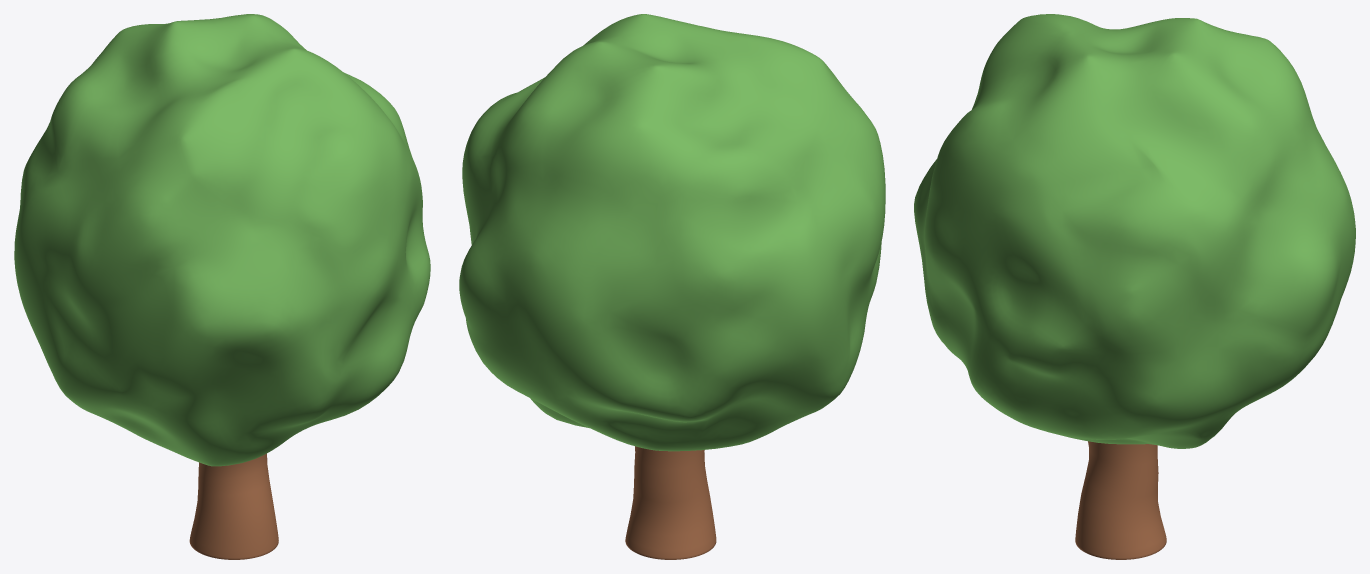
Rendered from TREE_ONE.fbx.
3 views of the same model, side by side, from view 1: azimuth 30°, elevation 25°; view 2: azimuth 150°, elevation 25°; view 3: azimuth 270°, elevation 25° (orthographic). The views are drawn at different scales.
Parts seen in each view (by area): view 1: Icosphere.023, Cylinder.012; view 2: Icosphere.023, Cylinder.012; view 3: Icosphere.023, Cylinder.012.
Part boxes in pixels (<box>): Icosphere.023: <box>14,14,430,466</box>; Cylinder.012: <box>189,453,278,559</box>; Icosphere.023: <box>459,14,885,451</box>; Cylinder.012: <box>625,446,716,559</box>; Icosphere.023: <box>914,14,1355,448</box>; Cylinder.012: <box>1075,441,1166,559</box>.
Bounding box in the file's own units: 1859 × 2392 × 1877.
